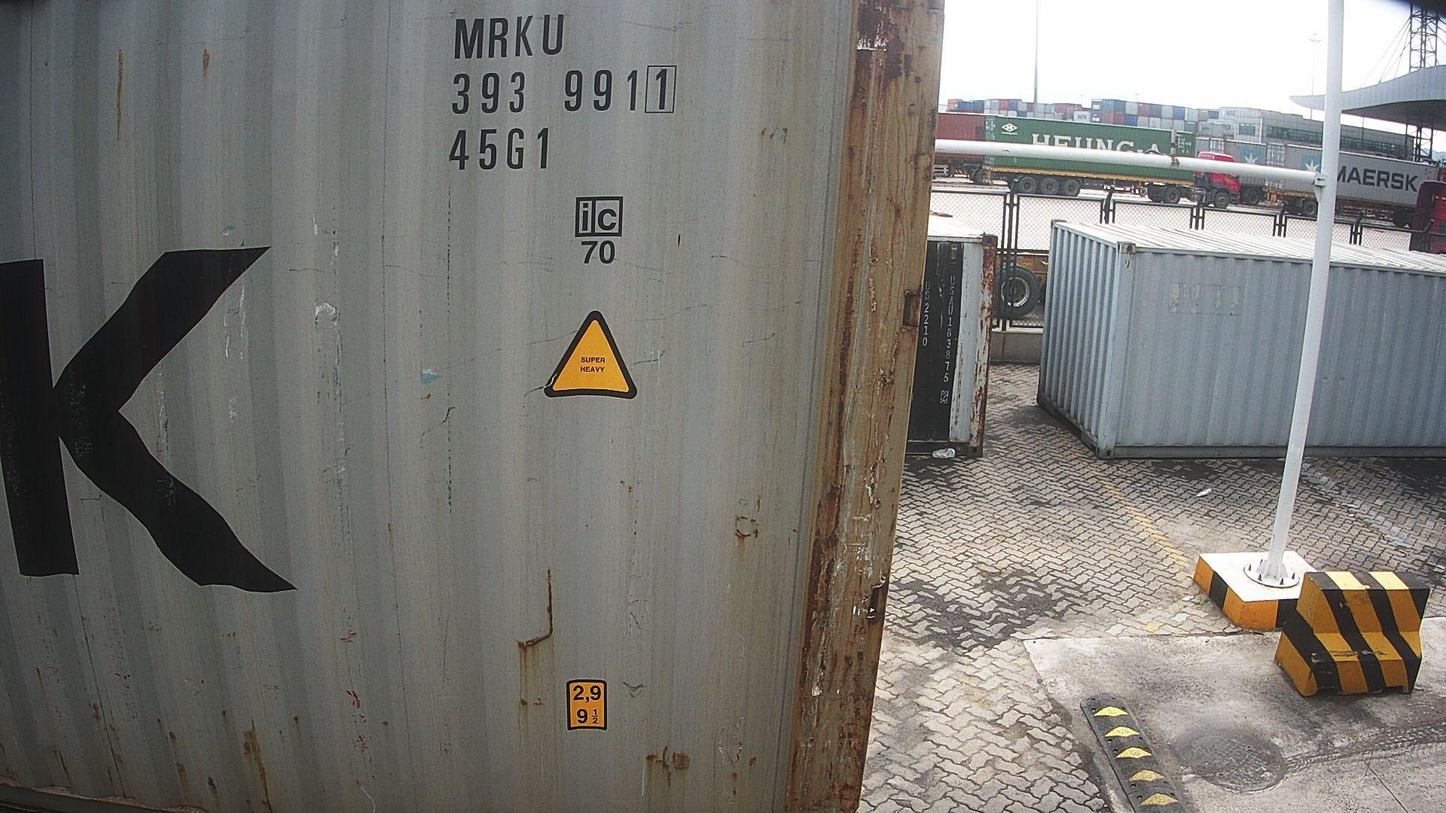container-numbers: (448, 62, 682, 119), (450, 13, 569, 66), (444, 124, 553, 174)
